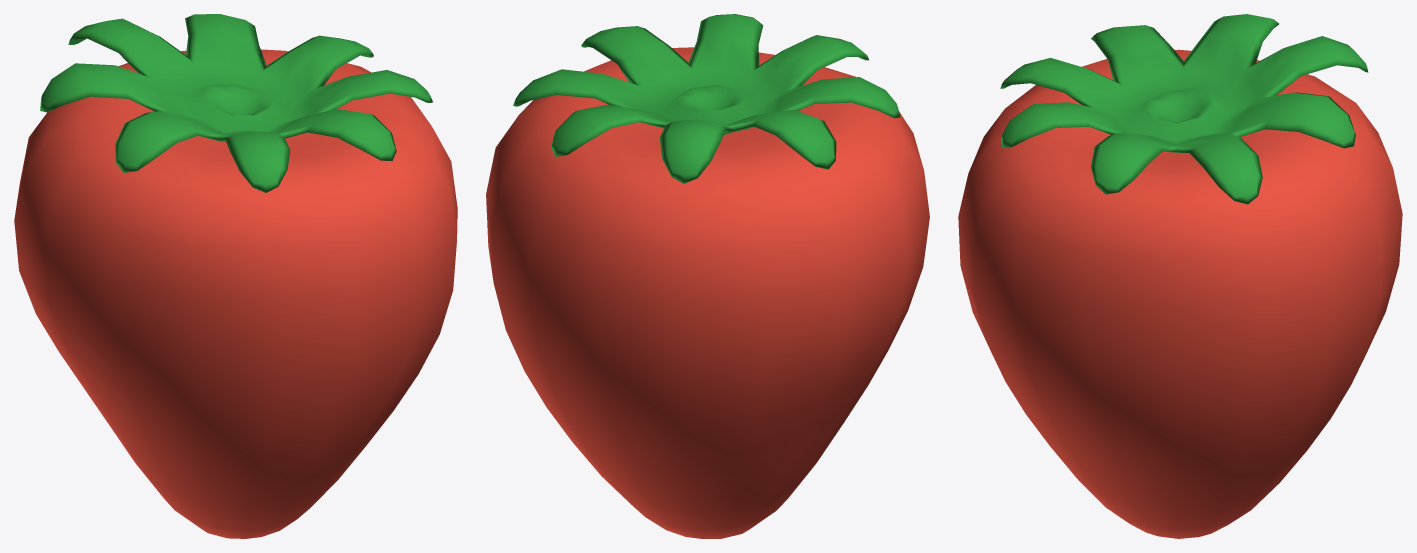
The model's file is Berries.fbx.
The picture shows the model from 3 angles, left to right: view 1: azimuth 30°, elevation 25°; view 2: azimuth 150°, elevation 25°; view 3: azimuth 270°, elevation 25°; orthographic projection. The views are drawn at different scales.
Visible parts, largest first — view 1: Sphere.001; view 2: Sphere.001; view 3: Sphere.001.
Part boxes in pixels (x1,y1,x2,y2): Sphere.001: (14, 14, 457, 538); Sphere.001: (486, 14, 929, 538); Sphere.001: (958, 14, 1402, 538).
Size of the model in its own units: 197 by 228 by 199.
